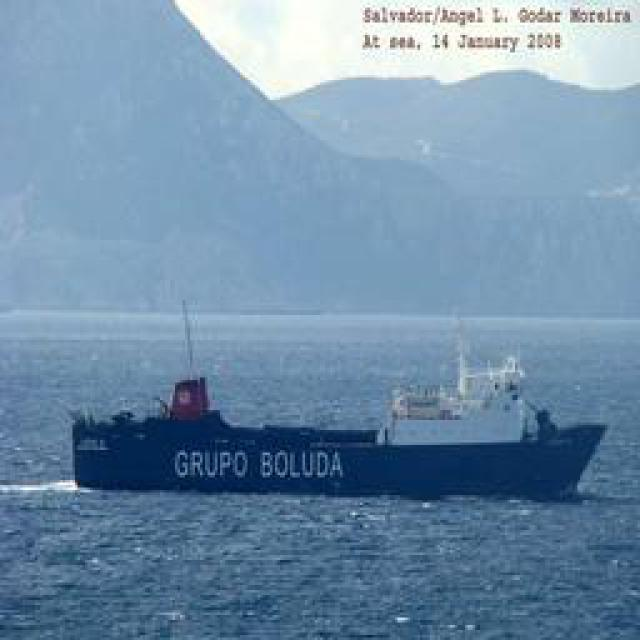Ship: (76, 350, 616, 503)
